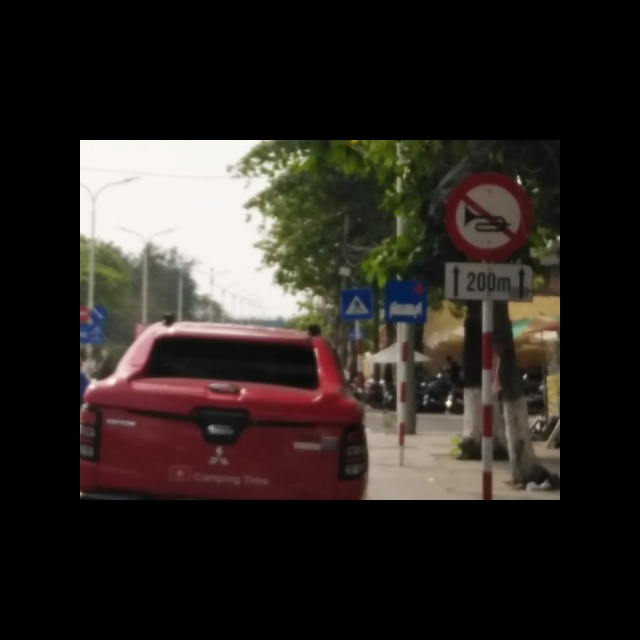Bệnh viện: (384, 278, 425, 324)
Cấm bấm còi: (446, 173, 533, 261)
Đường dành cho người đi bộ: (338, 286, 376, 319)
